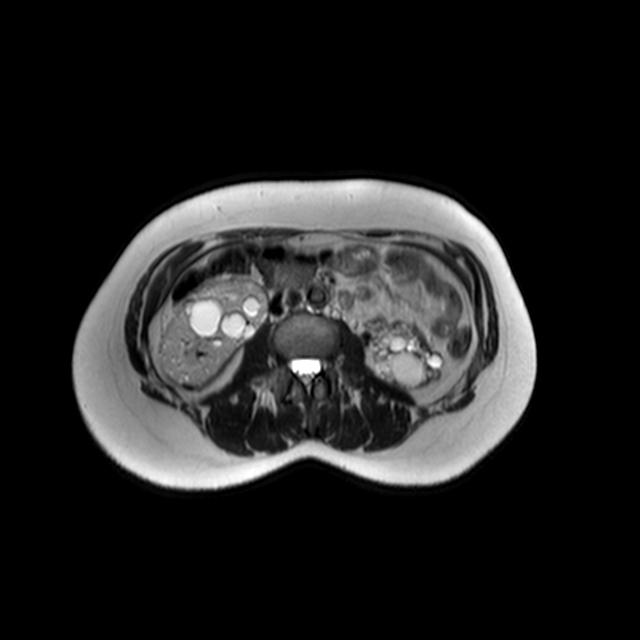sag: (156, 276, 271, 391)
sol: (363, 316, 446, 390)
